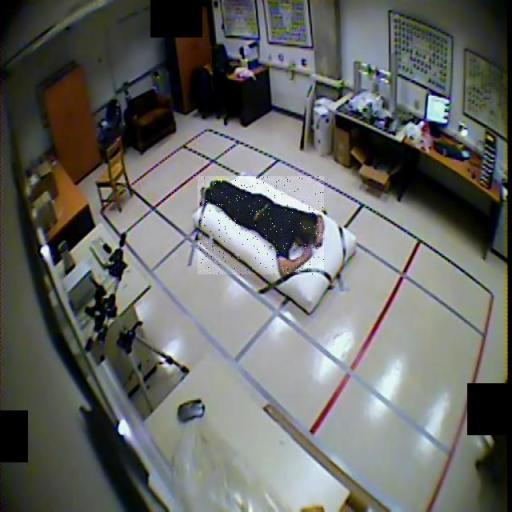Fall: (198, 176, 324, 274)
